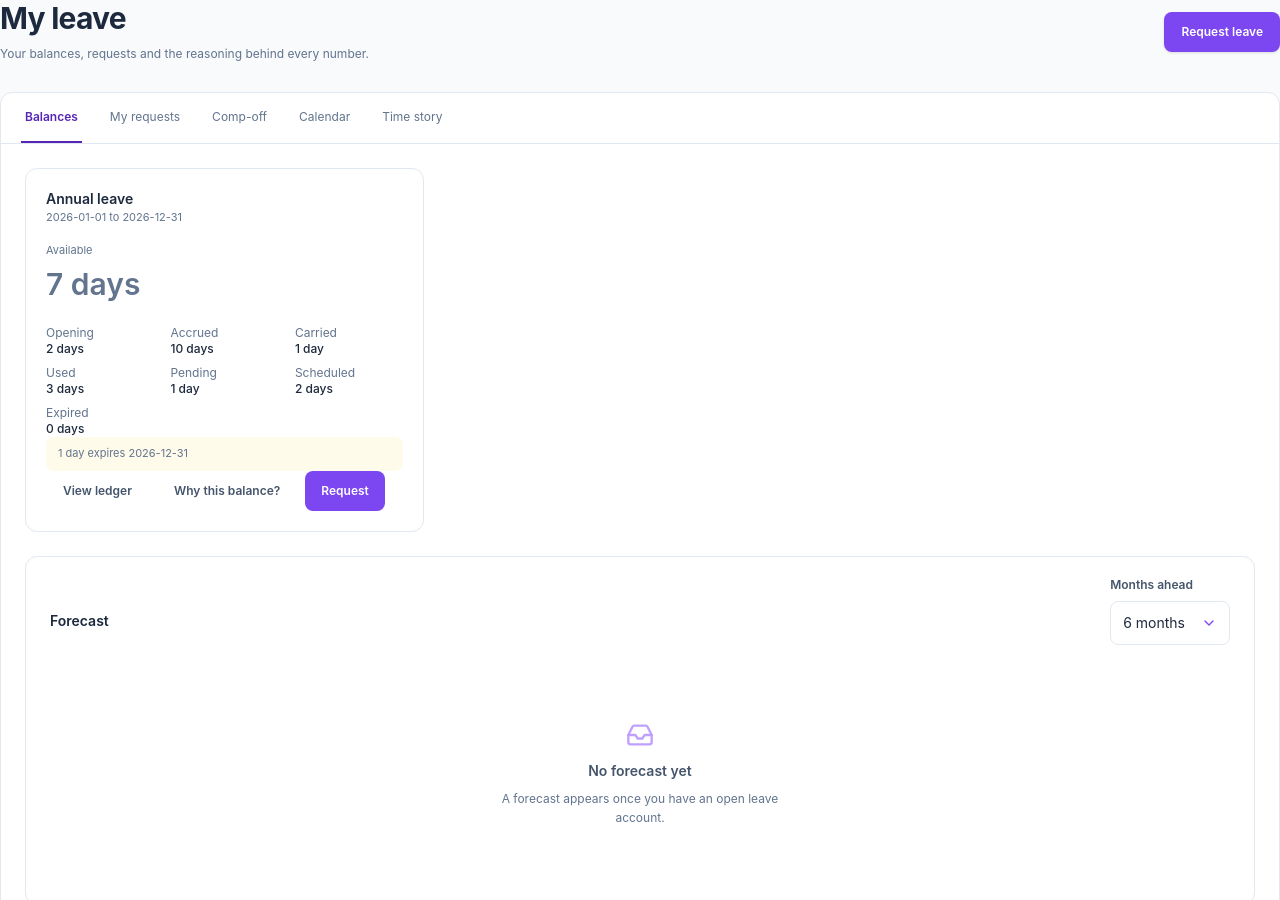
Test: Balances, ledger drawer and explainer › opens a traceable ledger with entry explanations, request links and calculation
The width and height of the screenshot is (1280, 900).
Click the button with aria-label "View Annual leave ledger": point(98, 491) x1=46 y1=471 x2=149 y2=511
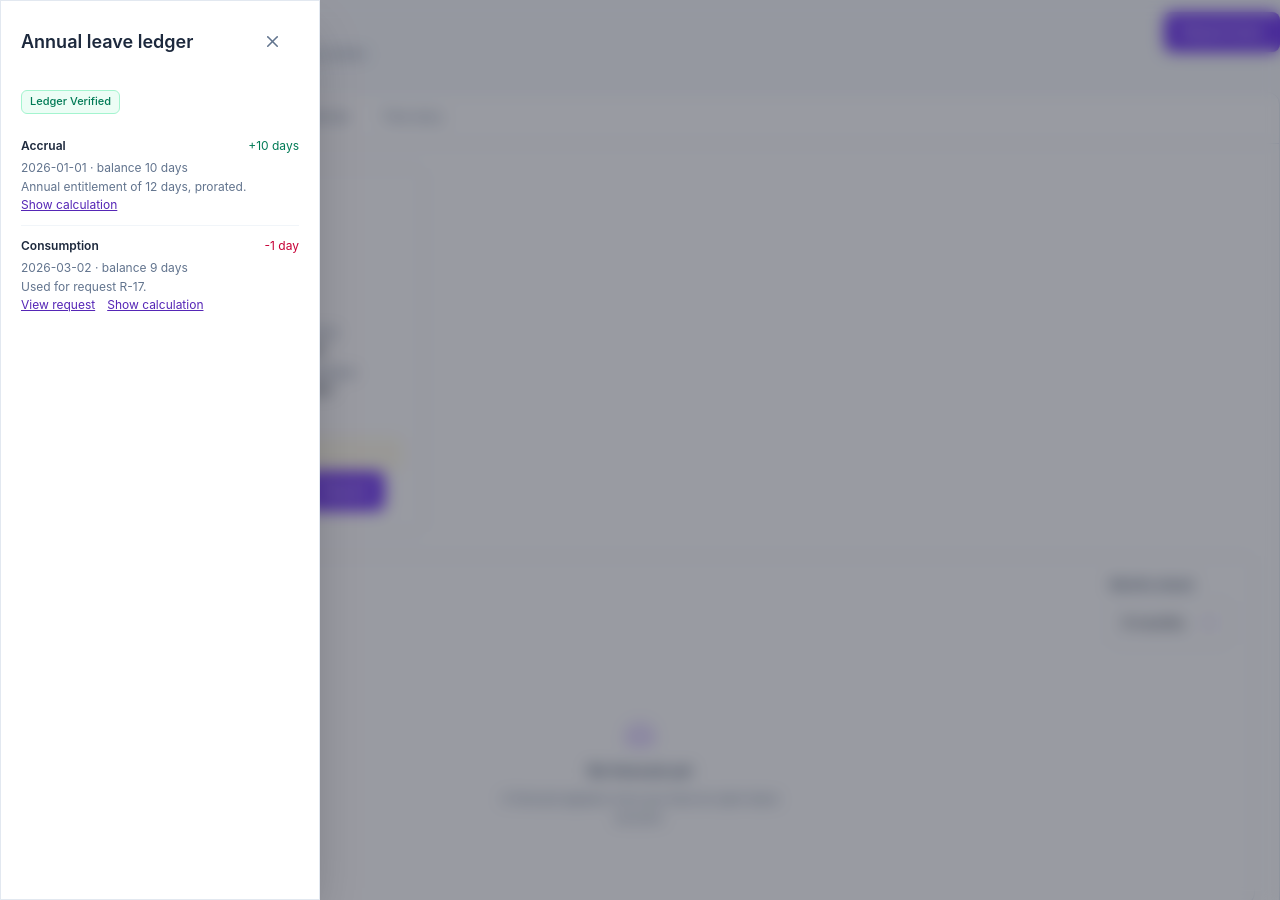
Result: the text "Annual entitlement of 12 days, prorated." is shown at x1=21 y1=179 x2=246 y2=194
Click the button "Show calculation" below "accrual": point(69, 205) x1=21 y1=197 x2=117 y2=213
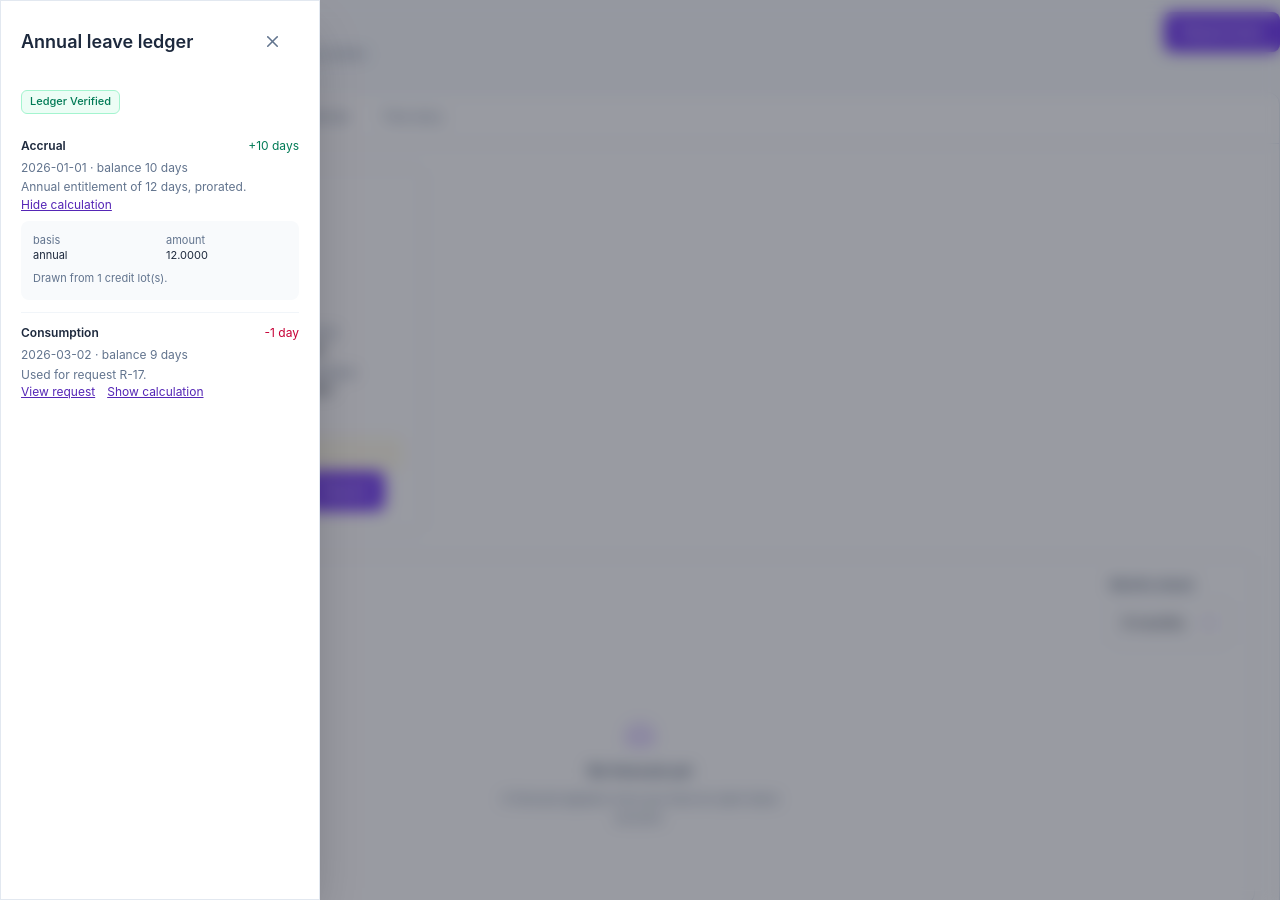
Result: the text "annual" is shown at x1=33 y1=248 x2=68 y2=262
